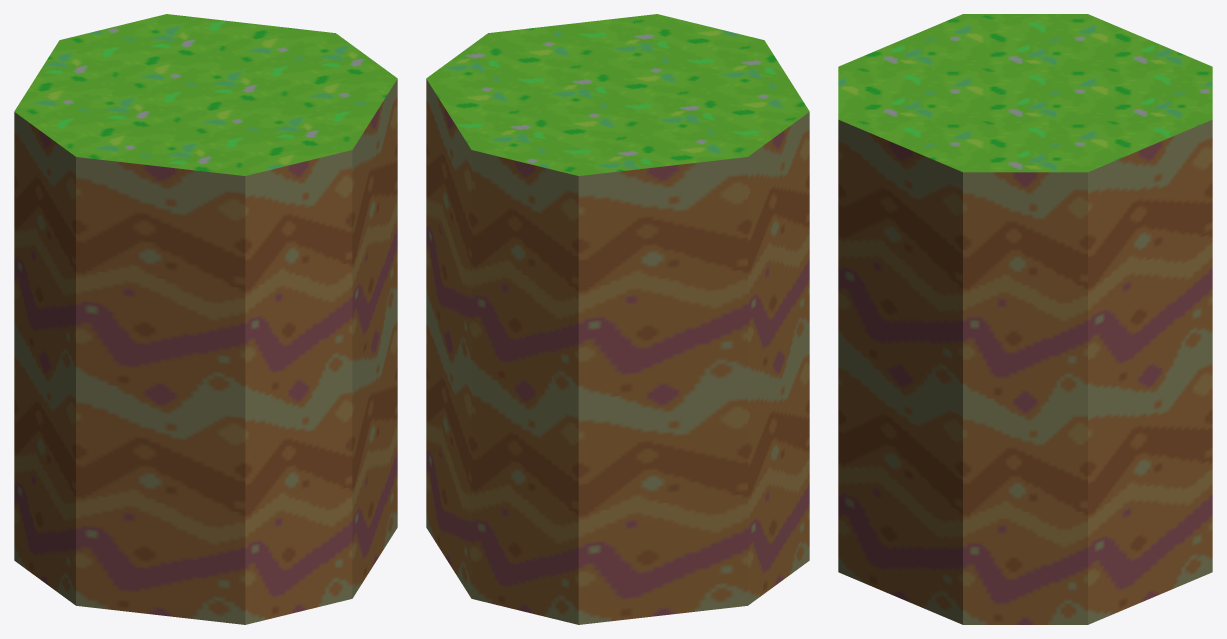
The model's file is RockPillarMedium.obj.
3 renders of one model, left to right at view 1: azimuth 30°, elevation 25°; view 2: azimuth 150°, elevation 25°; view 3: azimuth 270°, elevation 25°, orthographic.
Visible parts, largest first — view 1: Default; view 2: Default; view 3: Default.
Part boxes in pixels (<box>): Default: <box>14,14,397,624</box>; Default: <box>426,14,809,624</box>; Default: <box>838,14,1212,624</box>.
Bounding box in the file's own units: 6 × 8 × 6.
1 material, 1 textured.
